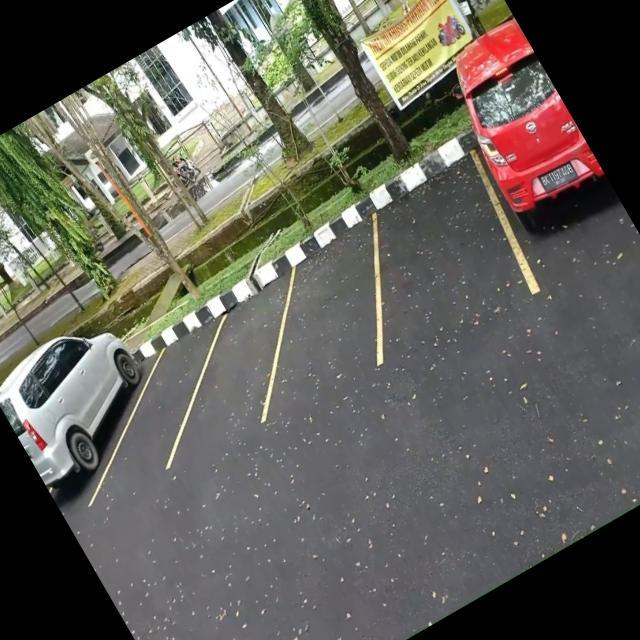empty: (332, 138, 544, 354), (248, 218, 414, 396), (174, 279, 316, 435), (120, 323, 238, 464)
occupied: (0, 332, 176, 520), (462, 89, 634, 280)
